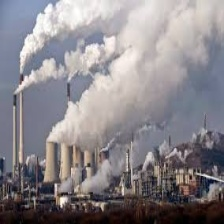smoke: (18, 3, 223, 143)
